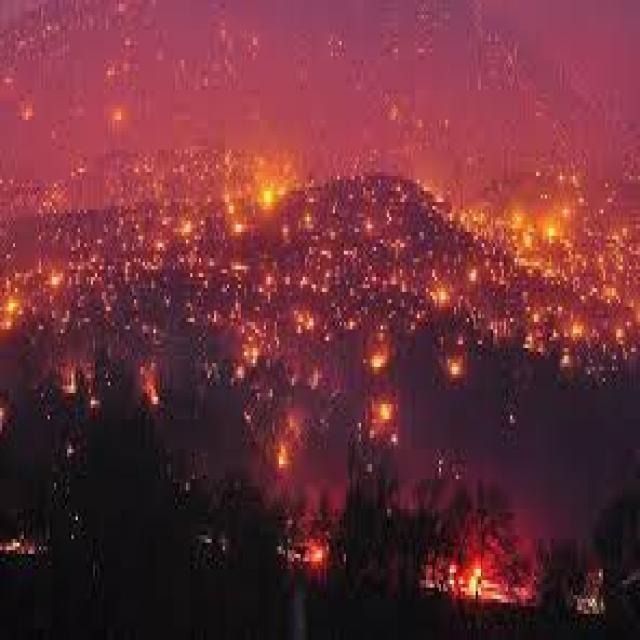Fire: (0, 5, 640, 514), (412, 508, 552, 616), (265, 514, 358, 586), (1, 523, 56, 572)
